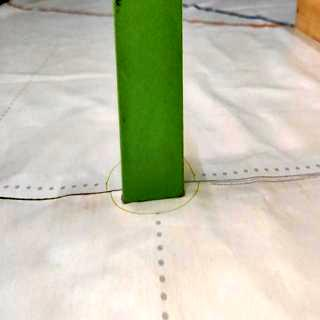greenbox: (113, 0, 192, 210)
